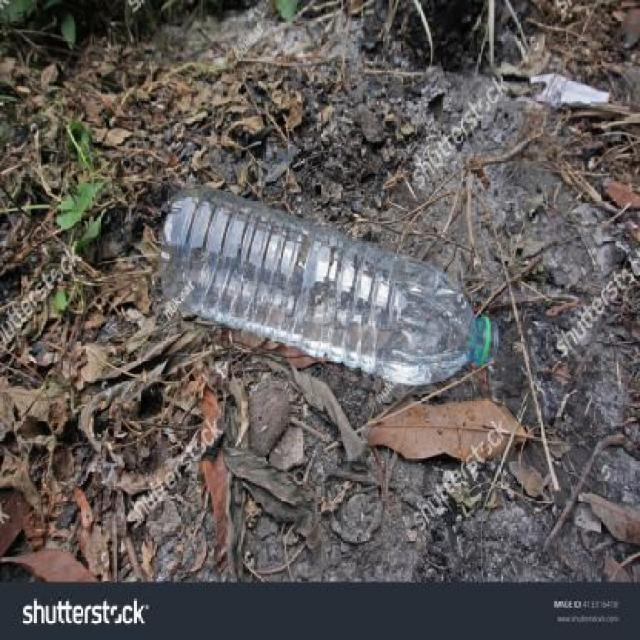bottle: (151, 181, 510, 391)
